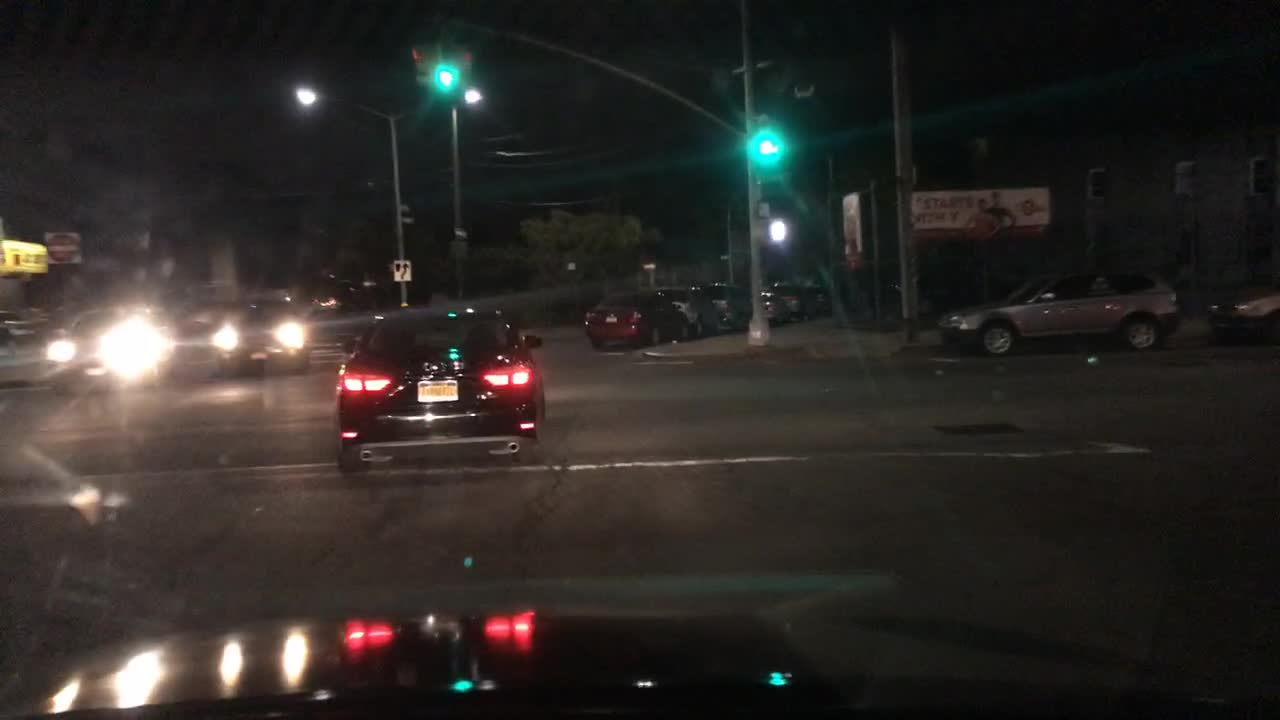car: (334, 307, 545, 472), (935, 263, 1183, 358), (50, 305, 170, 396), (212, 295, 310, 381), (580, 292, 693, 351), (1203, 283, 1279, 349), (658, 282, 722, 339), (705, 280, 756, 329), (774, 277, 815, 317), (0, 309, 43, 342), (757, 290, 789, 329), (810, 285, 833, 310)
traffic light: (406, 37, 432, 89), (752, 113, 776, 160), (455, 39, 476, 86), (437, 37, 455, 86), (764, 218, 786, 246)
traffic sign: (45, 232, 84, 265), (447, 236, 469, 256), (393, 258, 410, 280), (400, 212, 417, 224)
